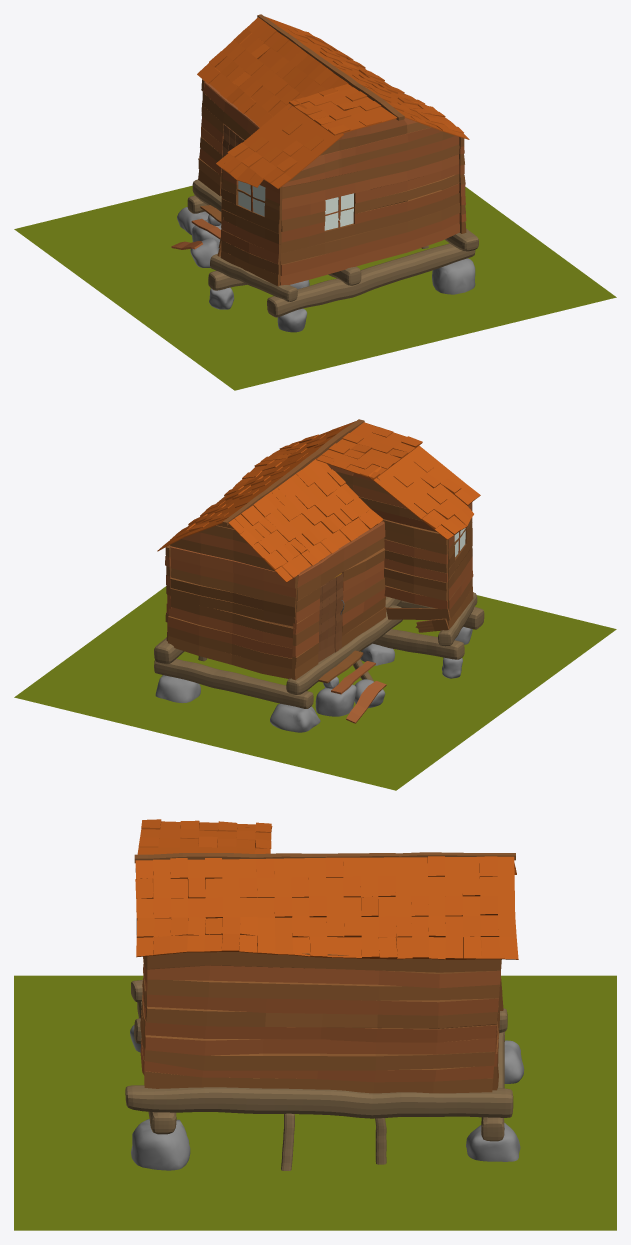
Rendered from House.fbx.
3 renders of one model, top to bottom at view 1: azimuth 30°, elevation 25°; view 2: azimuth 150°, elevation 25°; view 3: azimuth 270°, elevation 25°, orthographic. The views are drawn at different scales.
Visible parts, largest first — view 1: Ground, Wall.001, Side.001, Side.003, Wall.006, Beam.003, Side.002, Wall.002, Side.004, Pillar.004, Beam.009, Top (+5 smaller); view 2: Ground, Wall.004, Side.001, Wall.002, Side.003, Wall.005, Side.002, Side.004, Beam.001, Wall.006, Wall.007, Beam.002 (+10 smaller); view 3: Ground, Wall.003, Side.002, Beam.006, Side.004, Pillar.004, Top, Pillar.003, Beam.001, Pillar.002, Beam.003, Beam.007 (+1 smaller).
Boxes of the visible parts, left/top/right/bottom form: Ground: left=14, top=185, right=616, bottom=390; Wall.001: left=280, top=117, right=460, bottom=285; Side.001: left=197, top=17, right=348, bottom=127; Side.003: left=216, top=99, right=343, bottom=188; Wall.006: left=220, top=169, right=282, bottom=286; Beam.003: left=267, top=243, right=475, bottom=317; Side.002: left=265, top=16, right=469, bottom=139; Wall.002: left=198, top=81, right=259, bottom=196; Side.004: left=289, top=83, right=397, bottom=135; Pillar.004: left=432, top=258, right=475, bottom=294; Beam.009: left=210, top=253, right=297, bottom=301; Top: left=257, top=14, right=404, bottom=120; Ground: left=14, top=586, right=616, bottom=790; Wall.004: left=168, top=523, right=297, bottom=678; Side.001: left=228, top=459, right=382, bottom=582; Wall.002: left=291, top=521, right=386, bottom=680; Side.003: left=368, top=445, right=480, bottom=539; Wall.005: left=382, top=519, right=449, bottom=609; Side.002: left=157, top=421, right=355, bottom=551; Side.004: left=316, top=422, right=422, bottom=479; Beam.001: left=154, top=659, right=313, bottom=708; Wall.006: left=447, top=502, right=473, bottom=628; Wall.007: left=327, top=464, right=436, bottom=531; Beam.002: left=286, top=605, right=402, bottom=694; Ground: left=14, top=975, right=616, bottom=1230; Wall.003: left=144, top=952, right=501, bottom=1093; Side.002: left=135, top=856, right=518, bottom=959; Beam.006: left=125, top=1085, right=513, bottom=1118; Side.004: left=137, top=819, right=271, bottom=854; Pillar.004: left=131, top=1119, right=190, bottom=1170; Top: left=134, top=852, right=515, bottom=863; Pillar.003: left=466, top=1123, right=520, bottom=1161; Beam.001: left=481, top=1031, right=504, bottom=1141; Pillar.002: left=504, top=1040, right=524, bottom=1083; Beam.003: left=137, top=1001, right=176, bottom=1134; Beam.007: left=281, top=1113, right=294, bottom=1170.
Size of the model in its own units: 5176 by 2660 by 5176.
